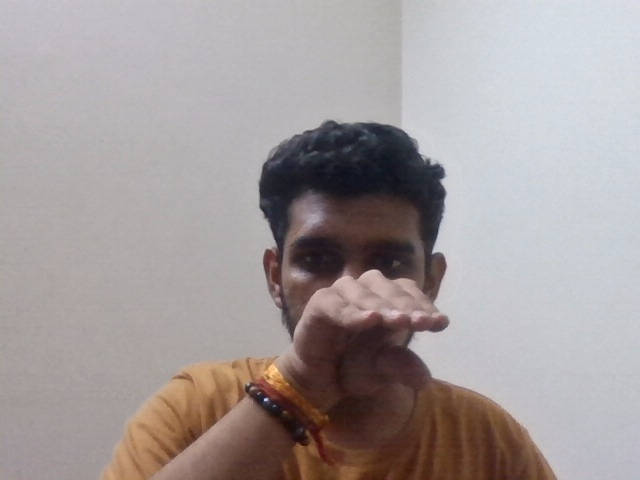no: (274, 265, 495, 421)
